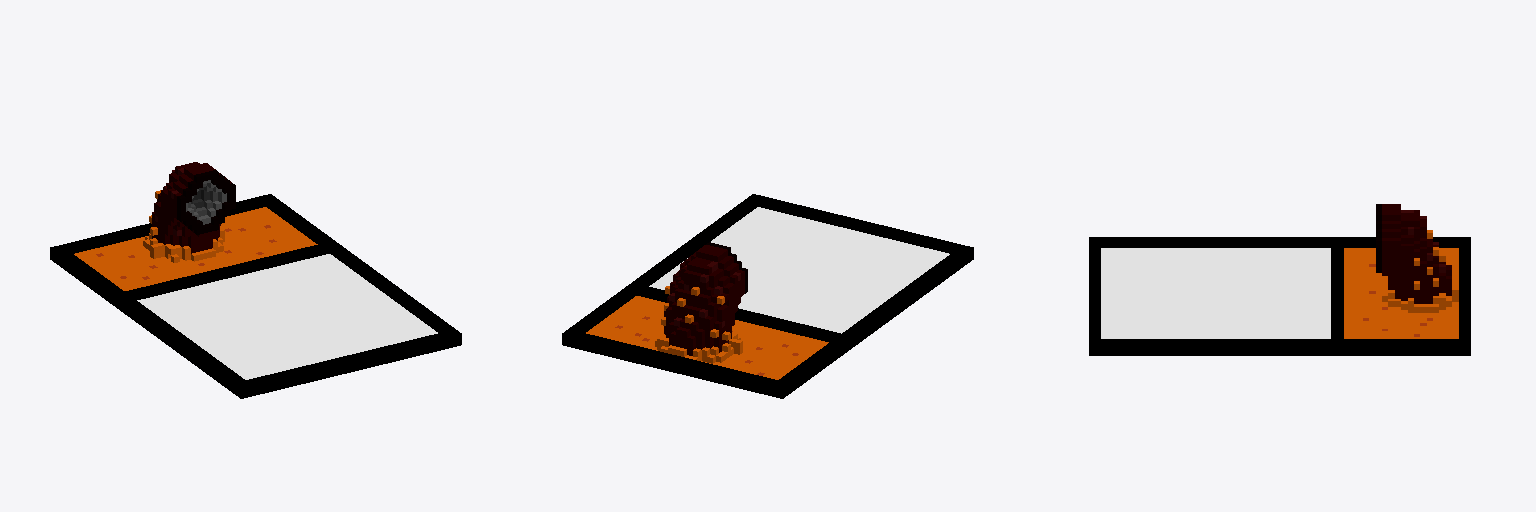
3 renders of one model, left to right at view 1: azimuth 30°, elevation 25°; view 2: azimuth 150°, elevation 25°; view 3: azimuth 270°, elevation 25°, orthographic.
Visible parts, largest first — view 1: object 1; view 2: object 1; view 3: object 1.
Part boxes in pixels (left/top/right/bottom): object 1: left=50, top=162, right=461, bottom=398; object 1: left=562, top=194, right=973, bottom=398; object 1: left=1089, top=204, right=1470, bottom=355.
Size of the model in its own units: 4 by 1.6 by 6.
Materials: 1 (1 with a texture image).